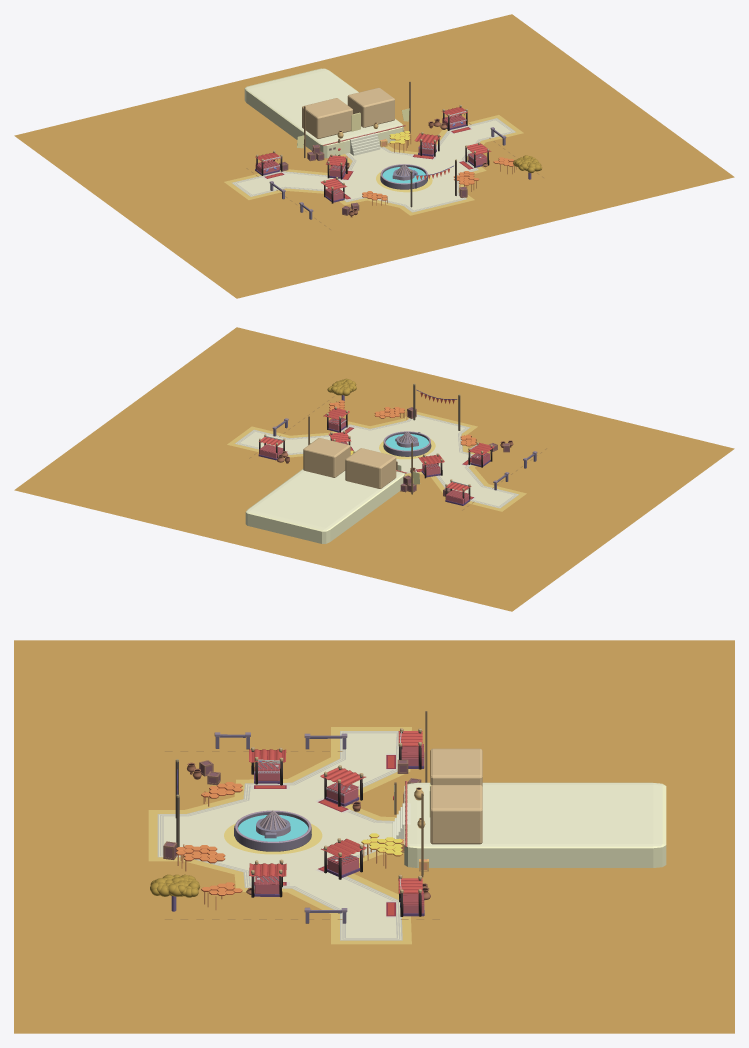
Rendered from plaza.glb.
3 renders of one model, top to bottom at view 1: azimuth 30°, elevation 25°; view 2: azimuth 150°, elevation 25°; view 3: azimuth 270°, elevation 25°, orthographic. The views are drawn at different scales.
Visible parts, largest first — view 1: FLOOR_sand, FLOOR_pavement, ARCH_terrace, FLOOR_sand_light, ARCH_building_west, ARCH_building_east, FLOOR_stripe1, FLOOR_stripe0, FLOOR_stripe2, FOUNTAIN_rim; view 2: FLOOR_sand, ARCH_terrace, FLOOR_pavement, ARCH_building_west, FLOOR_sand_light, ARCH_building_east, FOUNTAIN_rim, FLOOR_stripe1, FLOOR_stripe0; view 3: FLOOR_sand, ARCH_terrace, FLOOR_pavement, FLOOR_sand_light, ARCH_building_east, ARCH_building_west, FOUNTAIN_rim, FLOOR_stripe1, FLOOR_stripe2, FLOOR_stripe0, FOUNTAIN_water, FLOOR_gap2 (+3 smaller).
Part boxes in pixels (x1,y1,x2,y2): FLOOR_sand: [14, 14, 734, 298]; FLOOR_pavement: [238, 120, 509, 209]; ARCH_terrace: [244, 68, 403, 158]; FLOOR_sand_light: [224, 115, 523, 215]; ARCH_building_west: [302, 98, 352, 138]; ARCH_building_east: [347, 87, 394, 127]; FLOOR_stripe1: [233, 119, 513, 211]; FLOOR_stripe0: [231, 118, 515, 212]; FLOOR_stripe2: [235, 119, 512, 210]; FOUNTAIN_rim: [380, 164, 427, 189]; FLOOR_sand: [14, 327, 734, 611]; ARCH_terrace: [245, 469, 404, 543]; FLOOR_pavement: [241, 416, 512, 505]; ARCH_building_west: [345, 448, 396, 488]; FLOOR_sand_light: [227, 412, 526, 511]; ARCH_building_east: [303, 438, 350, 477]; FOUNTAIN_rim: [383, 431, 431, 456]; FLOOR_stripe1: [237, 415, 516, 507]; FLOOR_stripe0: [235, 414, 518, 508]; FLOOR_sand: [14, 640, 734, 1033]; ARCH_terrace: [404, 782, 666, 867]; FLOOR_pavement: [165, 734, 395, 937]; FLOOR_sand_light: [148, 727, 411, 944]; ARCH_building_east: [430, 785, 482, 844]; ARCH_building_west: [430, 748, 482, 786]; FOUNTAIN_rim: [234, 810, 311, 851]; FLOOR_stripe1: [160, 731, 400, 939]; FLOOR_stripe2: [162, 732, 397, 938]; FLOOR_stripe0: [157, 731, 402, 940]; FOUNTAIN_water: [238, 815, 308, 841]; FLOOR_gap2: [163, 733, 396, 937].
Size of the model in its own units: 142 by 14.01 by 110.
